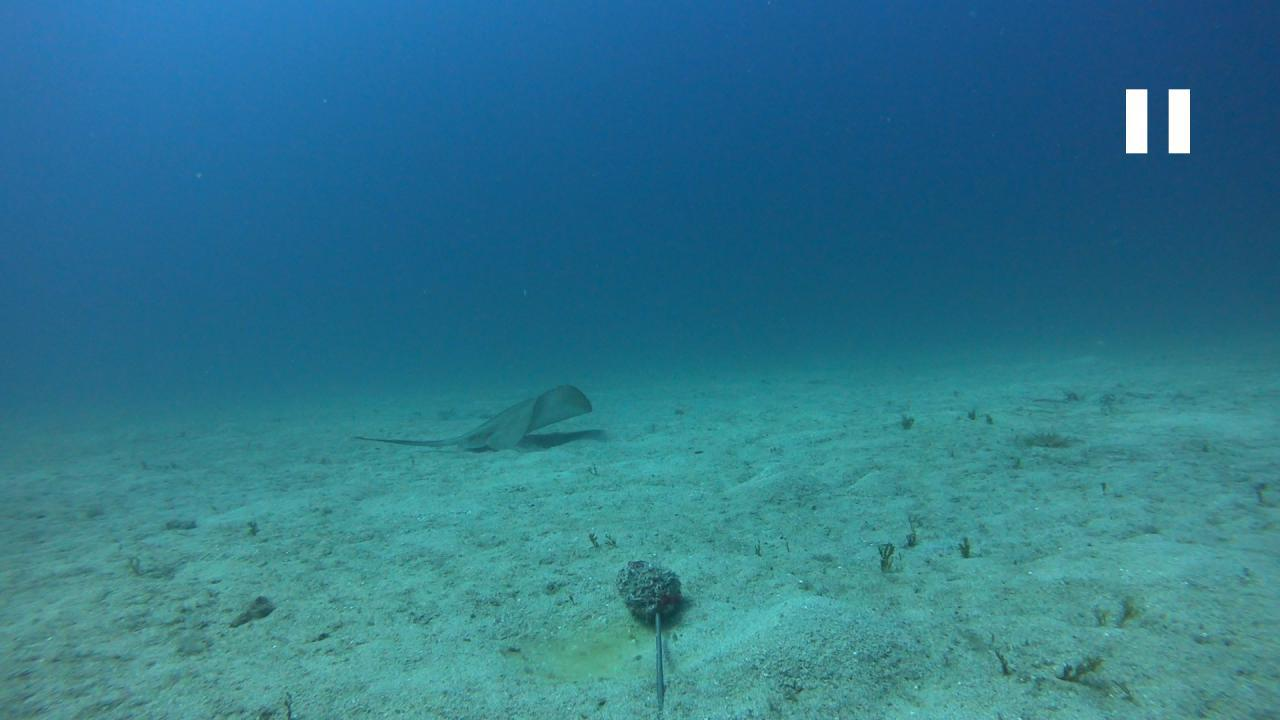dasyatis: (352, 384, 595, 452)
